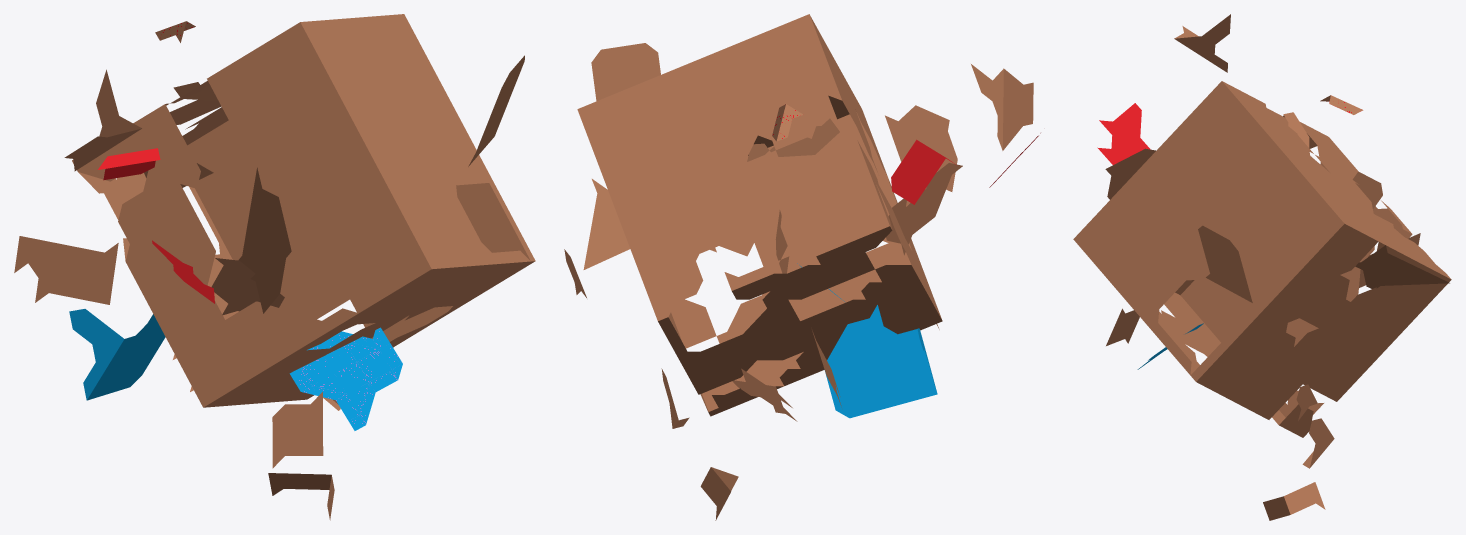
File: explode_000028.obj
3 views of the same model, side by side, from view 1: azimuth 30°, elevation 25°; view 2: azimuth 150°, elevation 25°; view 3: azimuth 270°, elevation 25° (orthographic). The views are drawn at different scales.
Parts seen in each view (by area): view 1: Cube_Cube.001; view 2: Cube_Cube.001; view 3: Cube_Cube.001.
Boxes of the visible parts, <box> form: Cube_Cube.001: <box>14,14,535,520</box>; Cube_Cube.001: <box>564,14,1040,520</box>; Cube_Cube.001: <box>1073,14,1451,520</box>.
Bounding box in the file's own units: 3.91 × 4.17 × 3.43.
